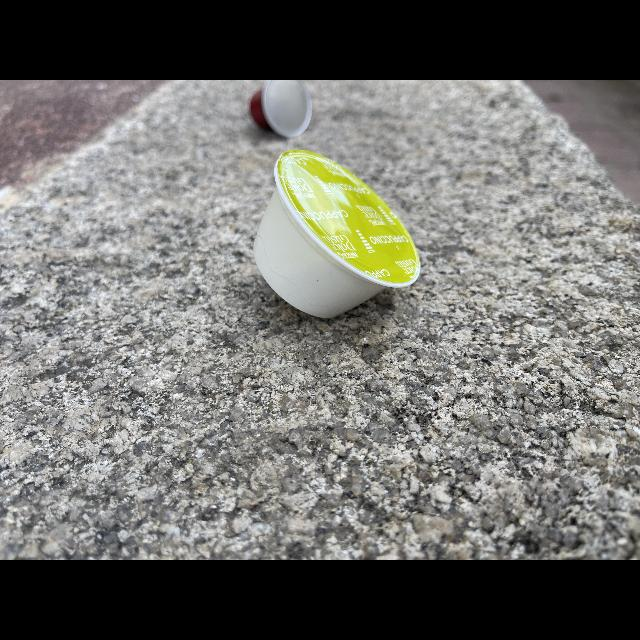intact_capsule: (244, 140, 431, 332), (243, 80, 323, 138)
